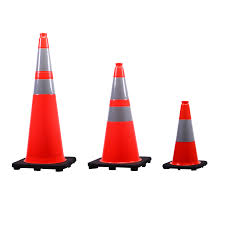cones: (13, 31, 76, 174), (84, 62, 155, 174), (163, 101, 207, 172)
